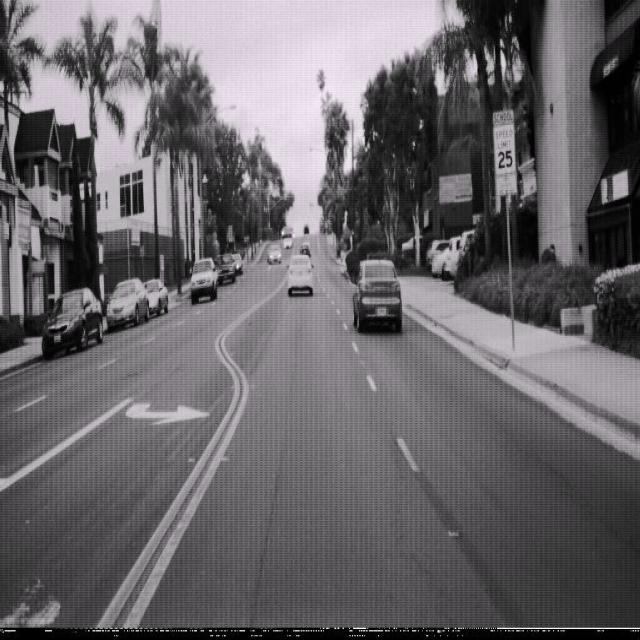speedLimit25: (492, 107, 518, 196)
